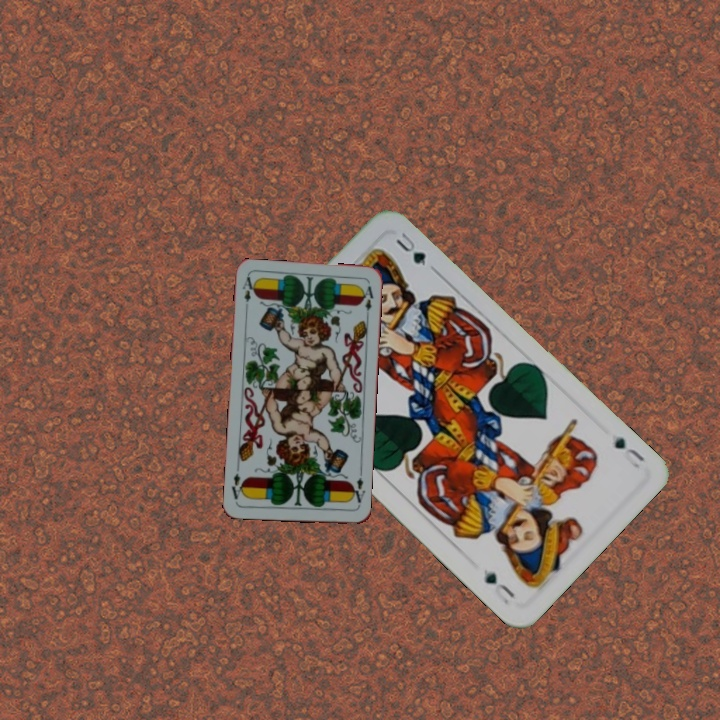EA: (238, 273, 257, 314), (347, 468, 367, 505)
GU: (610, 431, 647, 464)
